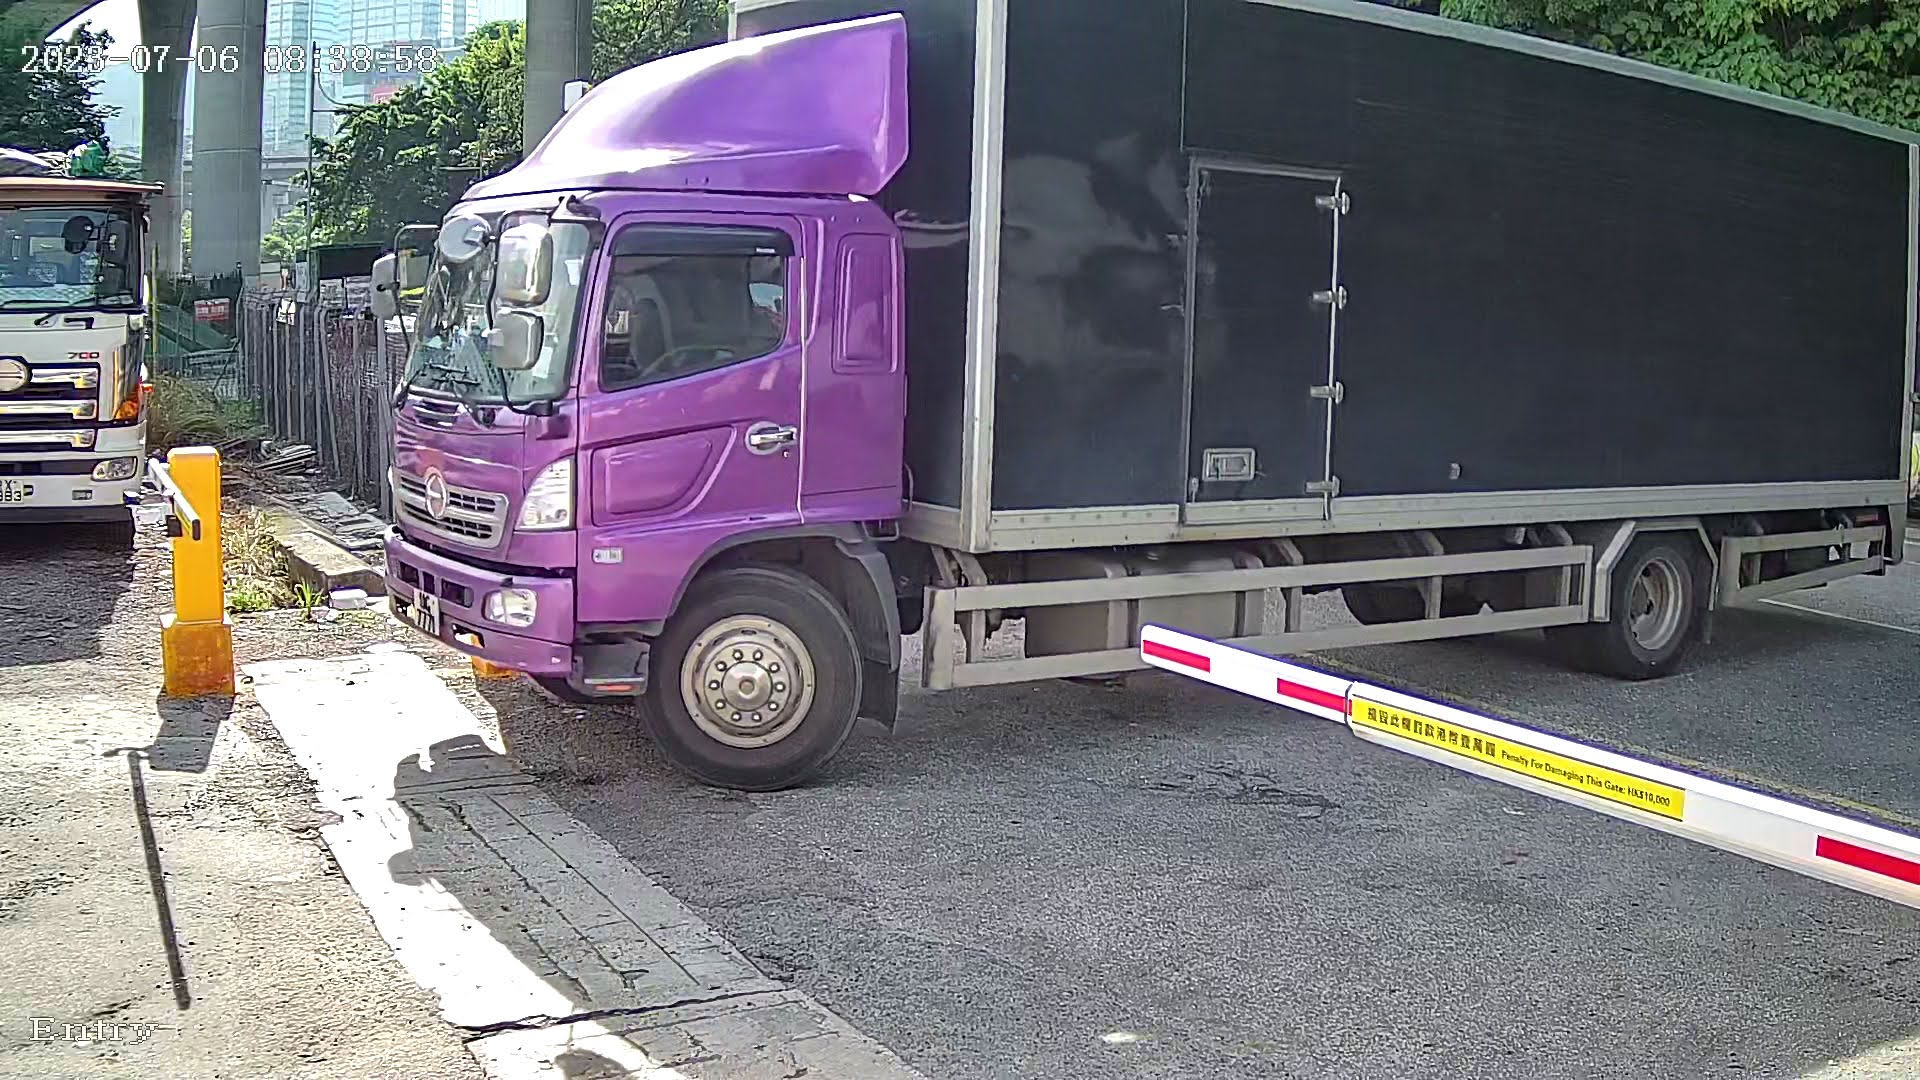truck_large: (367, 8, 1920, 804)
